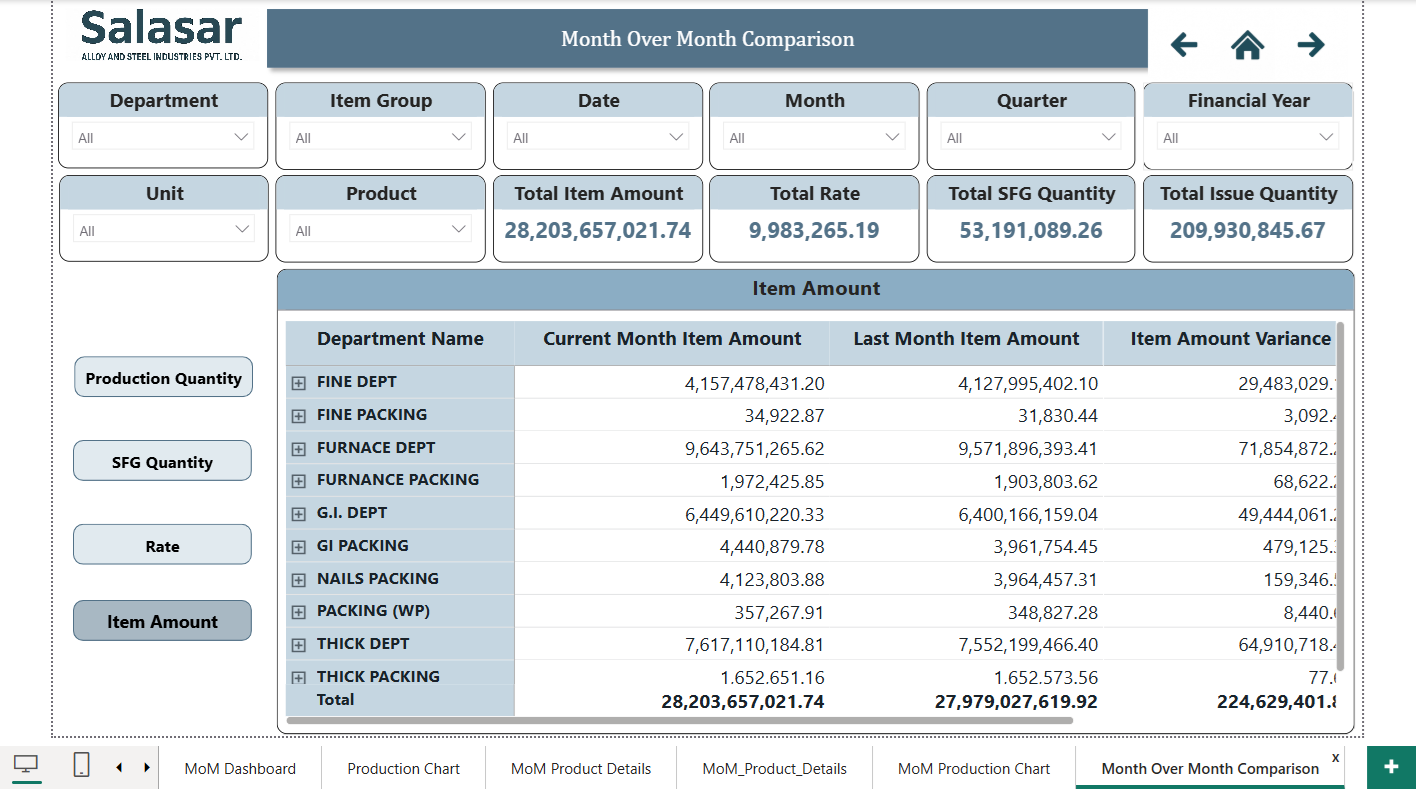

Layout of this report page (visuals, bound fields, positions):
{"tool":"powerbi","page":{"name":"Month Over Month Comparison","canvas":[1280,720],"ordinal":10},"visuals":[{"type":"image","box":[1128.7,3.8,80,80],"z":0,"group":"g1"},{"type":"image","box":[1066.2,3.8,80,80],"z":1000,"group":"g1"},{"type":"image","box":[1191.2,3.8,80,80],"z":2000,"group":"g1"},{"type":"pivotTable","title":"Item Amount","fields":{"Rows":["Sheet 1.Department Name","Sheet 1.Product Name","Sheet 1.Product Specification","Sheet 1.Item Group Name","Sheet 1.Item Name"],"Values":["Sheet 1.Current Month Item Amount","Sheet 1.Last Month Item Amount","Sheet 1.Item Amount Variance","Sheet 1.Item Amount Variance %"]},"box":[218.9,262.9,1054.1,455],"z":3000},{"type":"slicer","title":"Department","fields":{"Values":["Sheet 1.Department Name"]},"box":[4.9,81,205.4,84.4],"z":4000},{"type":"actionButton","box":[20.8,348.5,174.9,40],"z":4000,"group":"g2"},{"type":"slicer","title":"Item Group","fields":{"Values":["Sheet 1.Item Group Name"]},"box":[217.4,81,205.4,85.6],"z":5000},{"type":"actionButton","box":[20,430.6,175,40],"z":5000,"group":"g3"},{"type":"slicer","title":"Date","fields":{"Values":["Sheet 1.Doc Date"]},"box":[429.9,81,205.4,85.6],"z":6000},{"type":"actionButton","box":[20,512.4,175,40],"z":6000,"group":"g4"},{"type":"slicer","title":"Month","fields":{"Values":["Calendar.Month"]},"box":[642.5,81,205.4,85.6],"z":7000},{"type":"actionButton","title":"IA Highlight","box":[20,587.5,175,40],"z":7019,"group":"g5"},{"type":"slicer","title":"Quarter","fields":{"Values":["Calendar.Qtr"]},"box":[855,81,204.2,85.6],"z":8000},{"type":"slicer","title":"Financial Year","fields":{"Values":["Calendar.Fiscal Year"]},"box":[1066.3,81,205.4,85.6],"z":9000},{"type":"slicer","title":"Unit","fields":{"Values":["Sheet 1.unit"]},"box":[6.1,171,205,85],"z":10000},{"type":"card","title":"Total Item Amount ","fields":{"Values":["Sum(Sheet 1.ItemAmount)"]},"box":[430.4,171,205.4,85.6],"z":11000},{"type":"card","title":"Total Rate","fields":{"Values":["Sum(Sheet 1.Rate)"]},"box":[642,171,205.4,85.6],"z":12000},{"type":"card","title":"Total SFG Quantity","fields":{"Values":["Sum(Sheet 1.SFG Quantity)"]},"box":[854.8,171,204.2,85.6],"z":13000},{"type":"card","title":"Total Issue Quantity","fields":{"Values":["Sum(Sheet 1.Issue Quantity)"]},"box":[1066.3,171,205.4,85.6],"z":14000},{"type":"slicer","title":"Product","fields":{"Values":["Sheet 1.Product Name"]},"box":[217.7,171,205.4,85.6],"z":15000},{"type":"shape","box":[200,0,880,75],"z":16000},{"type":"image","box":[7.3,3.7,199.3,61.1],"z":17000},{"type":"group","id":"g1","title":"Group 1","box":[1066.2,3.8,205,80],"z":18000},{"type":"group","id":"g2","title":"Group 2","box":[20,348,175.7,40.5],"z":19000},{"type":"group","id":"g3","title":"Group 3","box":[20,430,175,40.6],"z":20000},{"type":"group","id":"g4","title":"Group 4","box":[20,512,175,40.4],"z":21000},{"type":"group","id":"g5","title":"Group 5","box":[20,587.5,176.2,40],"z":22000}]}

Visuals, with their boxes on the page's 1280x720 design canvas (x1, y1, x2, y2). These are canvas units, not pixel positions in the 1416x789 screenshot, which may show the page scaled, cropped or inside an application window:
image: [1129,4,1209,84]
image: [1066,4,1146,84]
image: [1191,4,1271,84]
"Item Amount" pivotTable: [219,263,1273,718]
"Department" slicer: [5,81,210,165]
actionButton: [21,348,196,388]
"Item Group" slicer: [217,81,423,167]
actionButton: [20,431,195,471]
"Date" slicer: [430,81,635,167]
actionButton: [20,512,195,552]
"Month" slicer: [642,81,848,167]
"IA Highlight" actionButton: [20,588,195,628]
"Quarter" slicer: [855,81,1059,167]
"Financial Year" slicer: [1066,81,1272,167]
"Unit" slicer: [6,171,211,256]
"Total Item Amount " card: [430,171,636,257]
"Total Rate" card: [642,171,847,257]
"Total SFG Quantity" card: [855,171,1059,257]
"Total Issue Quantity" card: [1066,171,1272,257]
"Product" slicer: [218,171,423,257]
shape: [200,0,1080,75]
image: [7,4,207,65]
"Group 1" group: [1066,4,1271,84]
"Group 2" group: [20,348,196,388]
"Group 3" group: [20,430,195,471]
"Group 4" group: [20,512,195,552]
"Group 5" group: [20,588,196,628]
